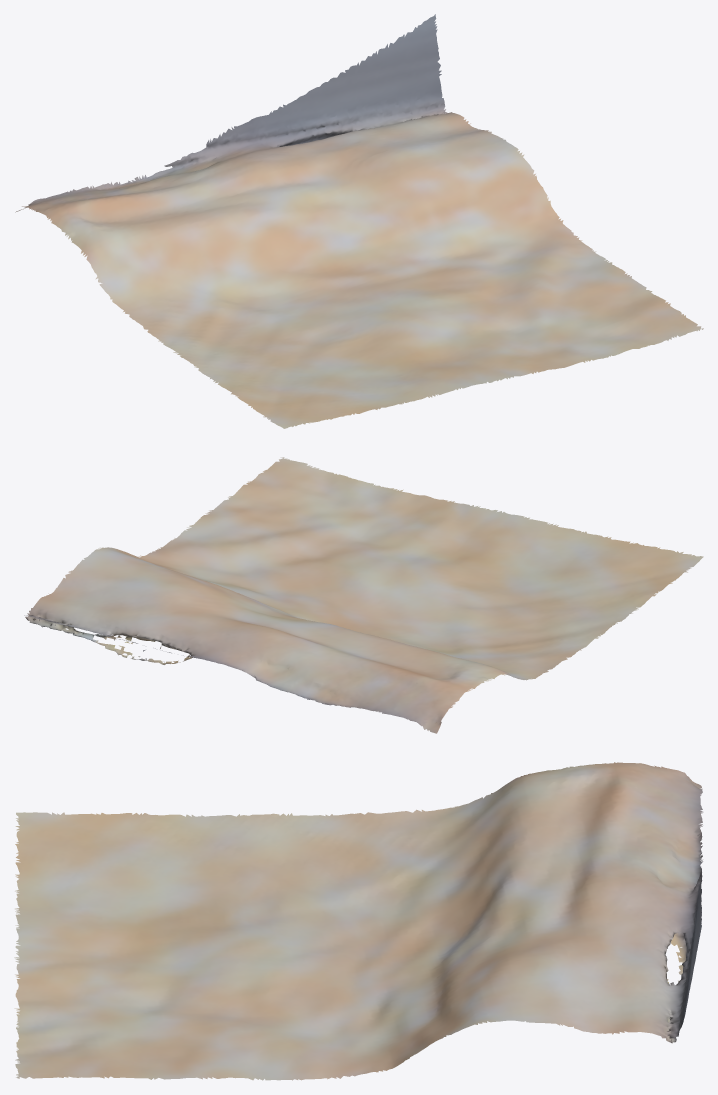
File: apartment-full-34-4588fe64261a.glb
The picture shows the model from 3 angles, top to bottom: view 1: azimuth 30°, elevation 25°; view 2: azimuth 150°, elevation 25°; view 3: azimuth 270°, elevation 25°; orthographic projection. The views are drawn at different scales.
Size of the model in its own units: 1.19 by 0.339 by 1.31.
